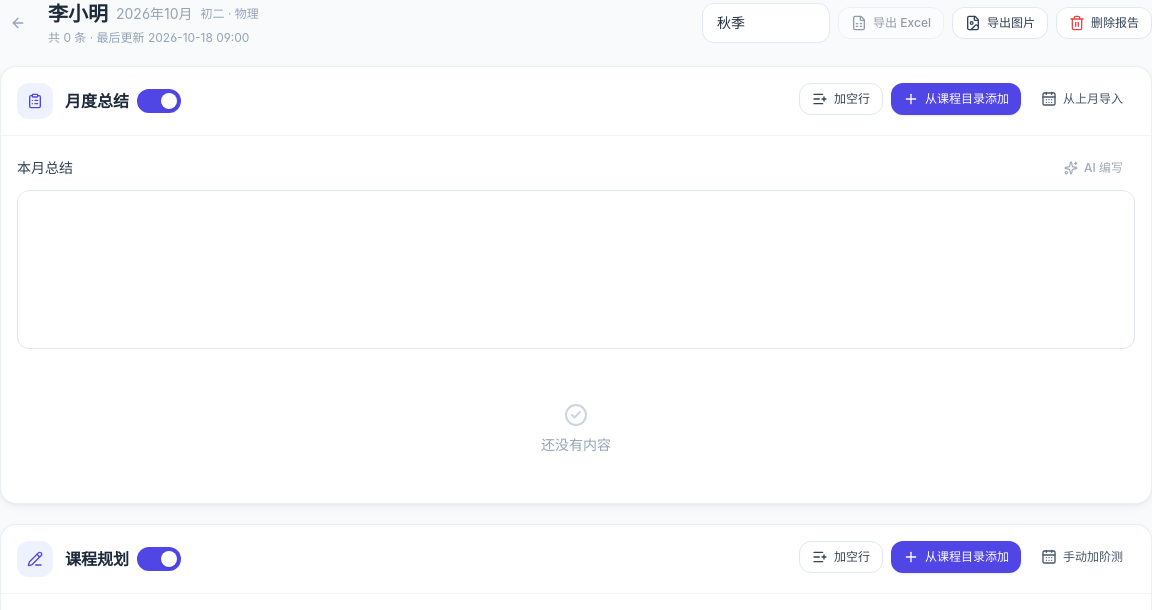
Test: 月度报告编辑器 › 可以关掉规划面板
Expected: the button "手动加阶测" is shown, x1=1029 y1=540 x2=1135 y2=572
Click the 2nd switch. click: x=159, y=558
box: x1=137 y1=546 x2=181 y2=570
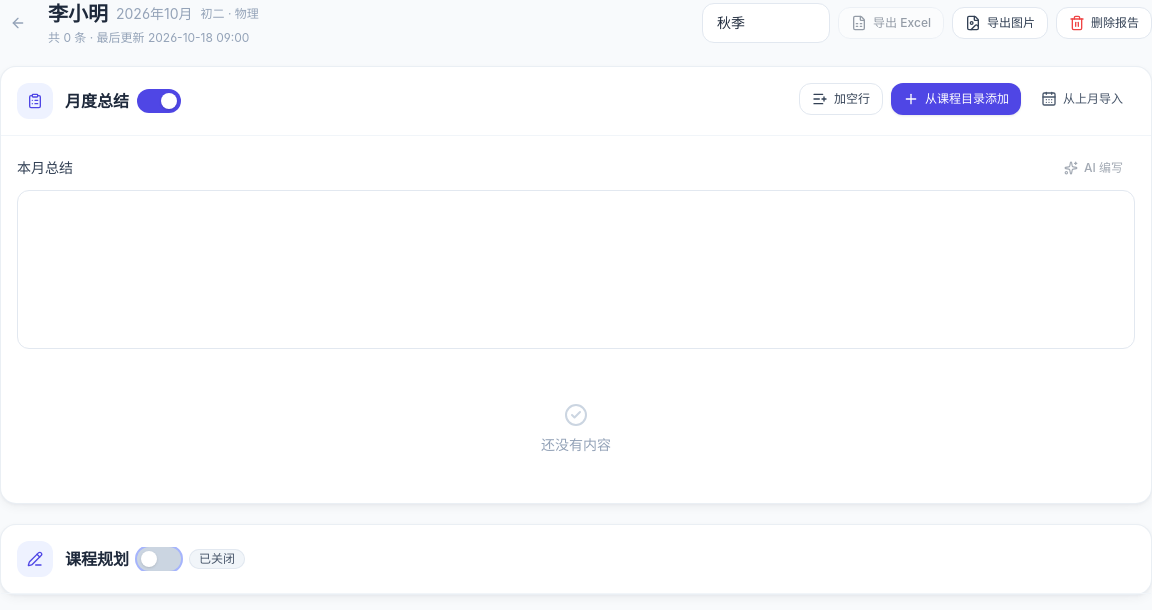
Result: the button "手动加阶测" is gone
